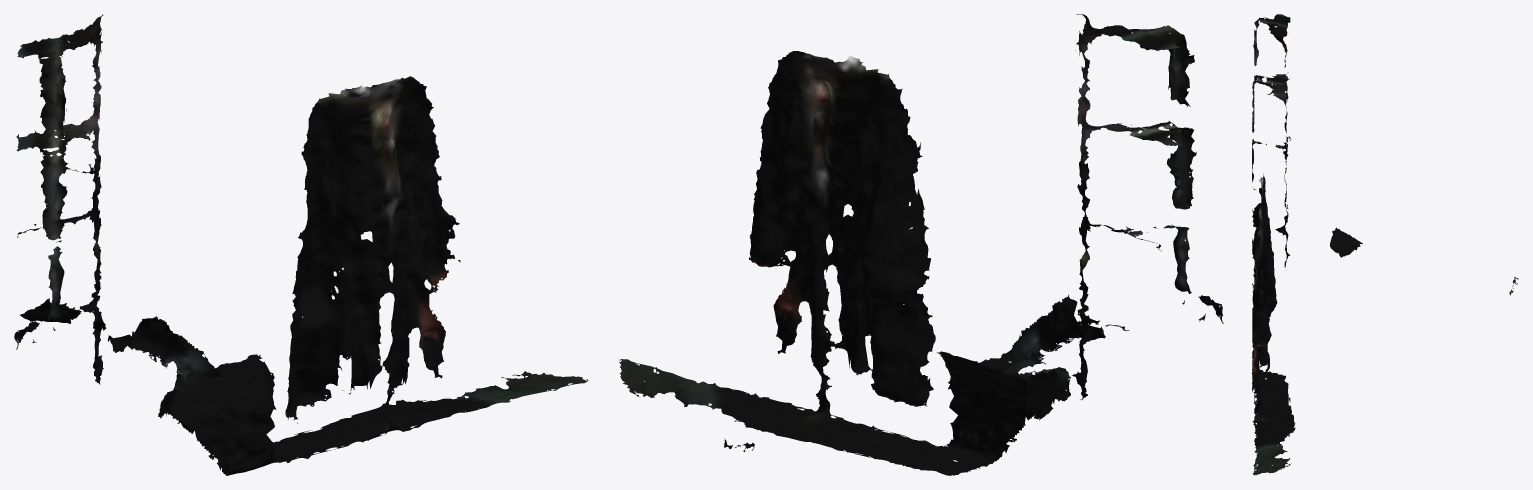
The model's file is color_model_f001_20251226_161538.obj.
3 views of the same model, side by side, from view 1: azimuth 30°, elevation 25°; view 2: azimuth 150°, elevation 25°; view 3: azimuth 270°, elevation 25° (orthographic). The views are drawn at different scales.
Bounding box in the file's own units: 2.12 × 1.66 × 1.31.
